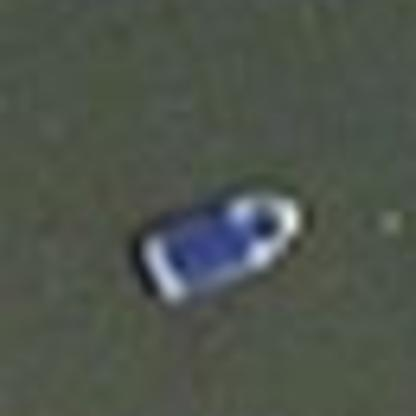ship: (118, 162, 331, 315)
